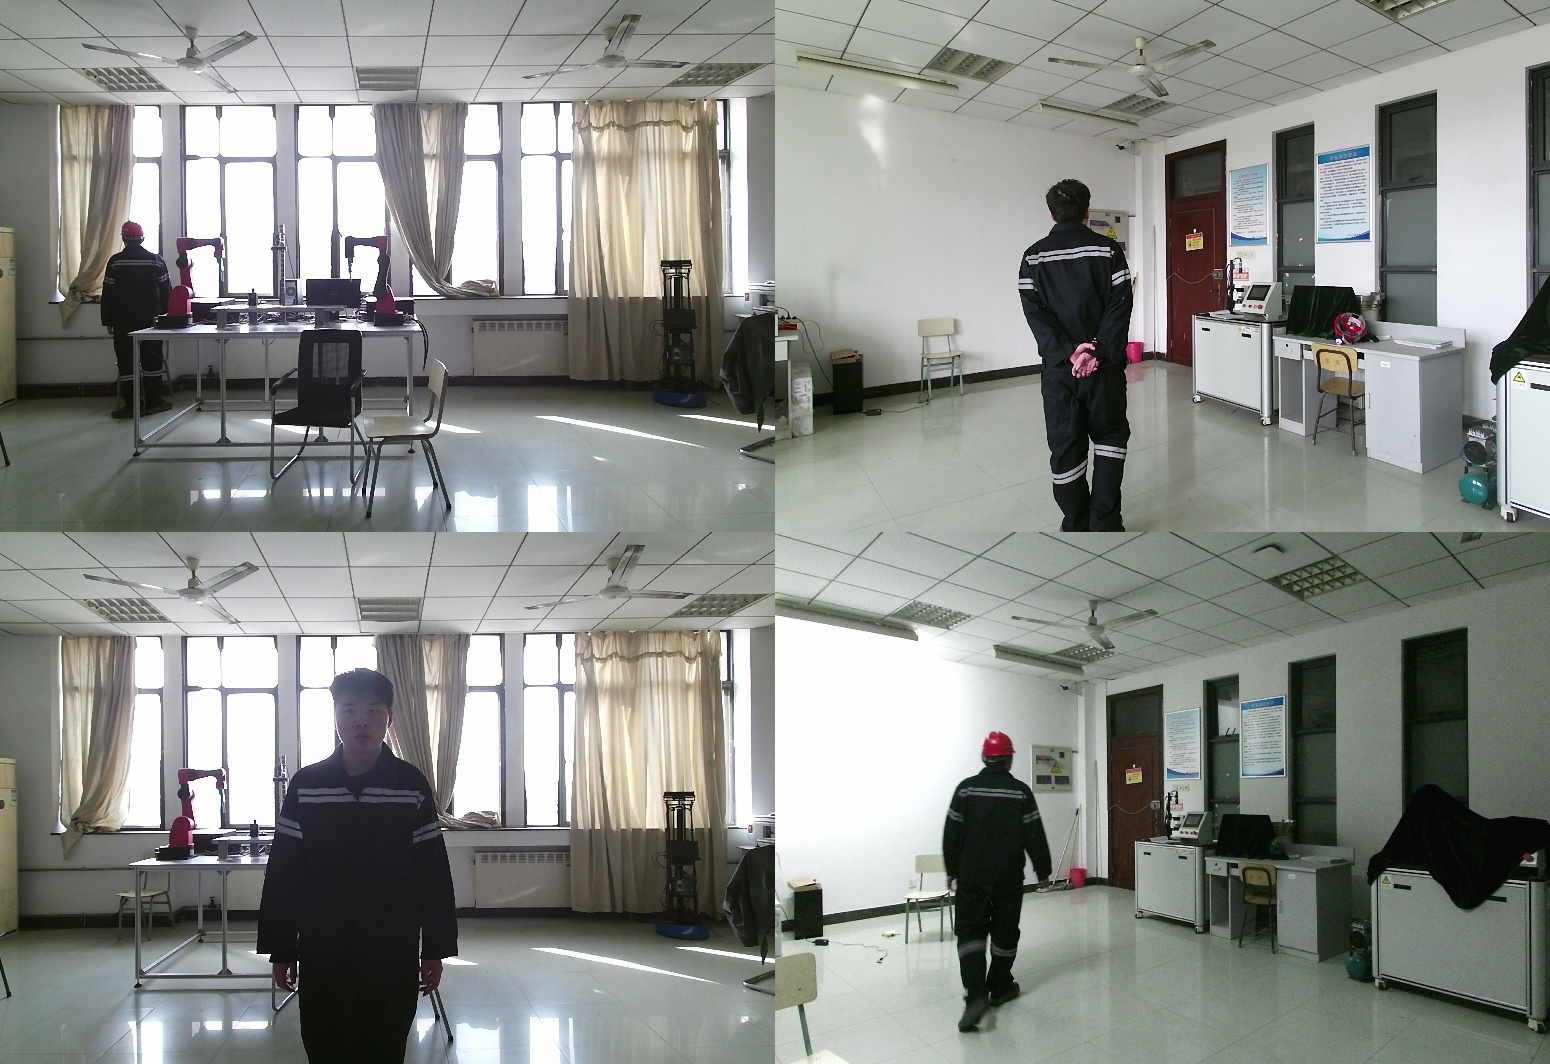person: (267, 667, 476, 1064), (1015, 178, 1147, 532), (932, 734, 1046, 1035), (92, 222, 177, 424)
